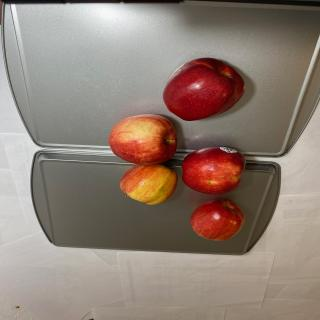Apple: (163, 57, 245, 121), (108, 114, 177, 165), (181, 146, 246, 194), (119, 164, 178, 205), (190, 198, 245, 241)
